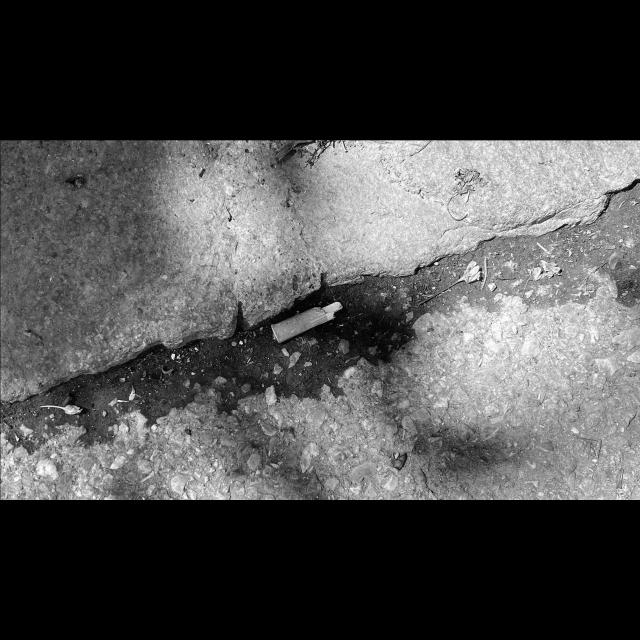cigarette: (270, 301, 343, 344)
